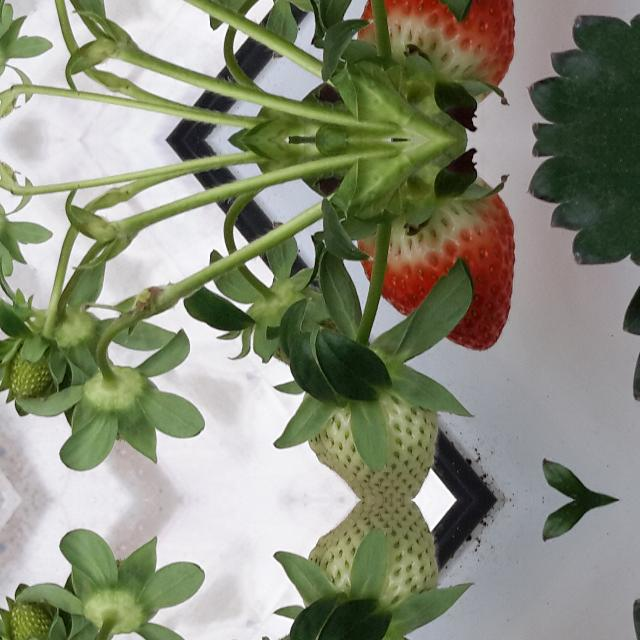Health_100: (357, 176, 515, 352), (357, 0, 515, 104)
Health_25: (306, 366, 434, 499), (306, 501, 434, 634), (11, 336, 59, 394), (11, 605, 59, 640)
